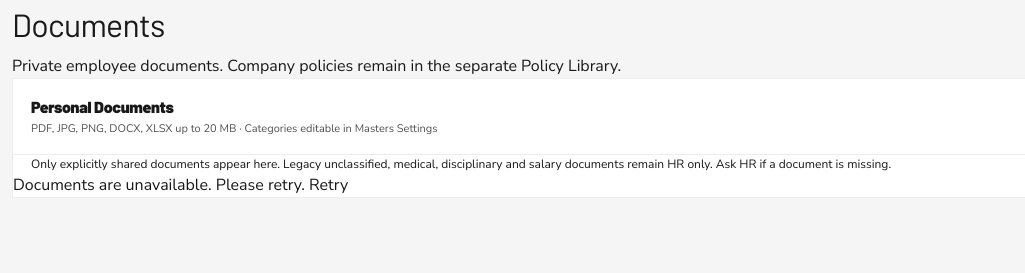
Test: empty and error states distinguish unavailable data from no authorized files
The width and height of the screenshot is (1025, 273).
Later steps or results of the test are not shown.
Check: the text "No authorized documents" is not shown
What coordinates should you click on to do the following:
click the button "Retry"
I would click on:
 (329, 184)
Its box is [309,172,348,196].
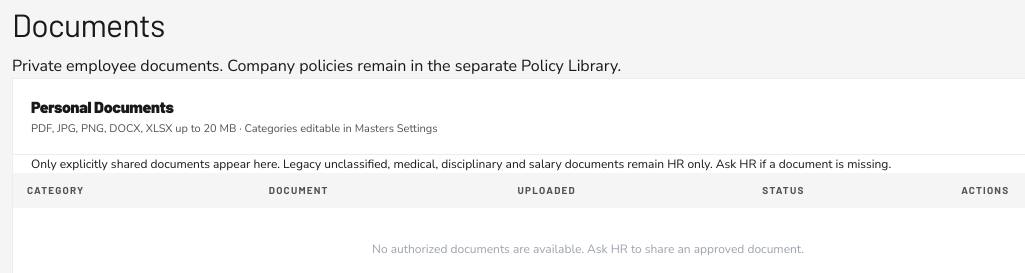
Check: the text "No authorized documents" is shown, box [372,240,804,256]
